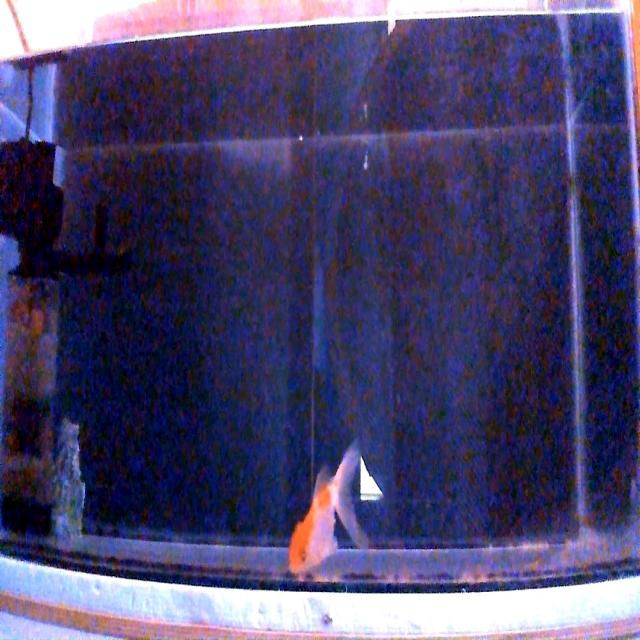fish: (286, 437, 372, 576)
